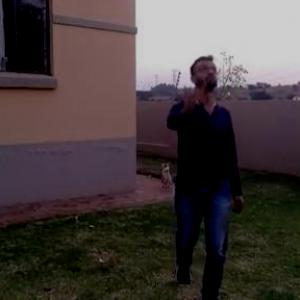takeoff-hand: (173, 84, 199, 117)
